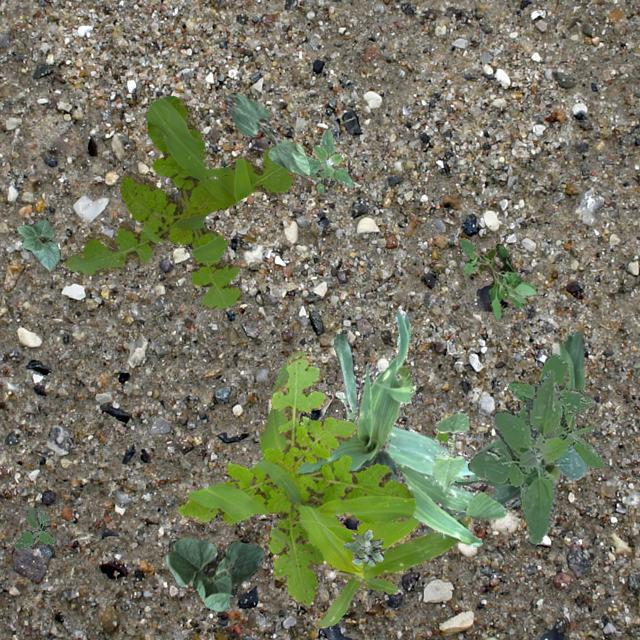crop: (258, 348, 472, 626), (408, 332, 584, 570), (332, 332, 504, 546), (296, 304, 414, 486), (165, 536, 262, 610), (224, 92, 308, 176), (430, 408, 468, 488), (15, 216, 60, 270)
weed: (176, 354, 414, 604), (61, 95, 296, 308), (466, 368, 584, 544), (508, 352, 606, 468), (456, 236, 536, 322), (304, 128, 354, 192), (14, 504, 54, 548), (342, 528, 382, 566), (485, 248, 499, 268), (296, 414, 312, 426), (334, 390, 346, 402)
